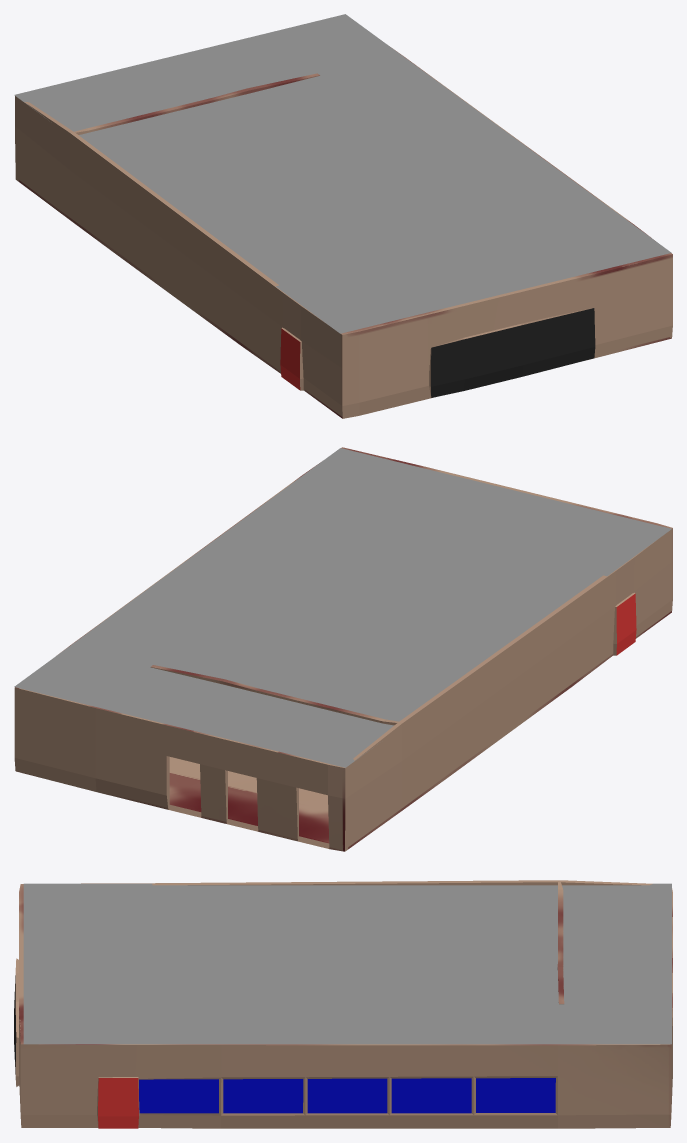
The model's file is LD Jam Lobby.fbx.
3 renders of one model, top to bottom at view 1: azimuth 30°, elevation 25°; view 2: azimuth 150°, elevation 25°; view 3: azimuth 270°, elevation 25°, orthographic.
Visible parts, largest first — view 1: Plane.010, Plane; view 2: Plane.010, Plane, Plane.011; view 3: Plane.010, Plane.
Boxes of the visible parts, box(x1,y1,x2,y2) form: Plane.010: box(14, 14, 671, 333); Plane: box(15, 48, 672, 418); Plane.010: box(14, 448, 671, 767); Plane: box(14, 447, 672, 851); Plane.011: box(169, 757, 329, 843); Plane.010: box(23, 883, 671, 1044); Plane: box(14, 880, 672, 1128).
Size of the model in its own units: 1654 by 422 by 2823.
Materials: 12 (1 with a texture image).
